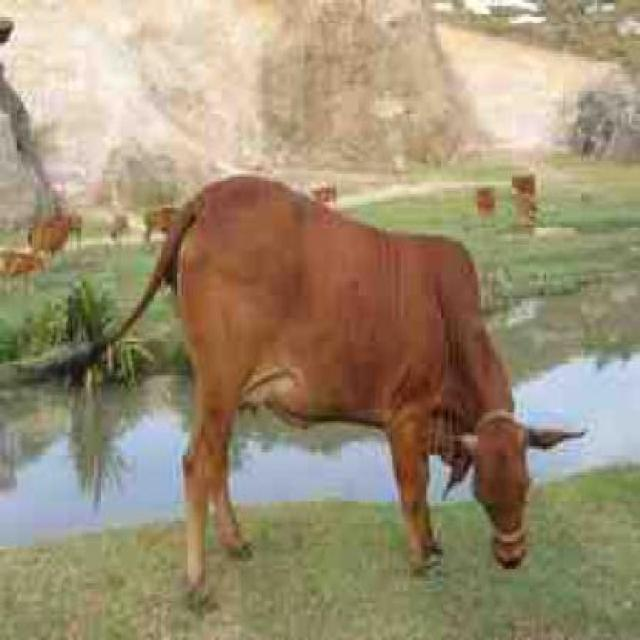Cow: (32, 171, 591, 611)
